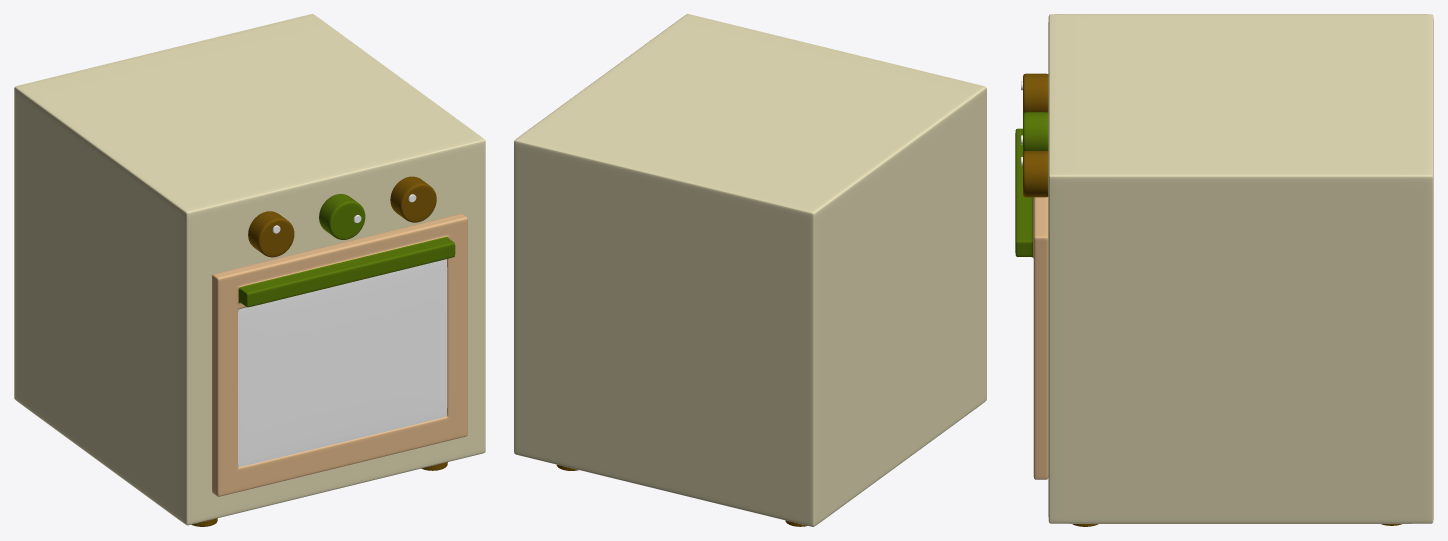
The model's file is oven_combined (1).fbx.
The picture shows the model from 3 angles, left to right: view 1: azimuth 30°, elevation 25°; view 2: azimuth 150°, elevation 25°; view 3: azimuth 270°, elevation 25°; orthographic projection. The views are drawn at different scales.
Parts seen in each view (by area): view 1: final_combined_oven, combined_over_door; view 2: final_combined_oven; view 3: final_combined_oven, combined_over_door.
Boxes of the visible parts, left/top/right/bottom form: final_combined_oven: left=14, top=14, right=485, bottom=526; combined_over_door: left=212, top=214, right=467, bottom=496; final_combined_oven: left=514, top=14, right=986, bottom=526; final_combined_oven: left=1021, top=14, right=1433, bottom=526; combined_over_door: left=1015, top=128, right=1048, bottom=479.
Size of the model in its own units: 10.49 by 10.96 by 11.39.
